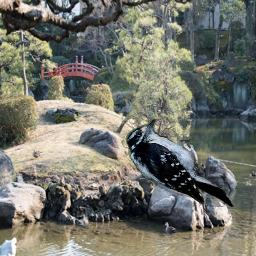Woodpecker: (125, 119, 236, 207)
